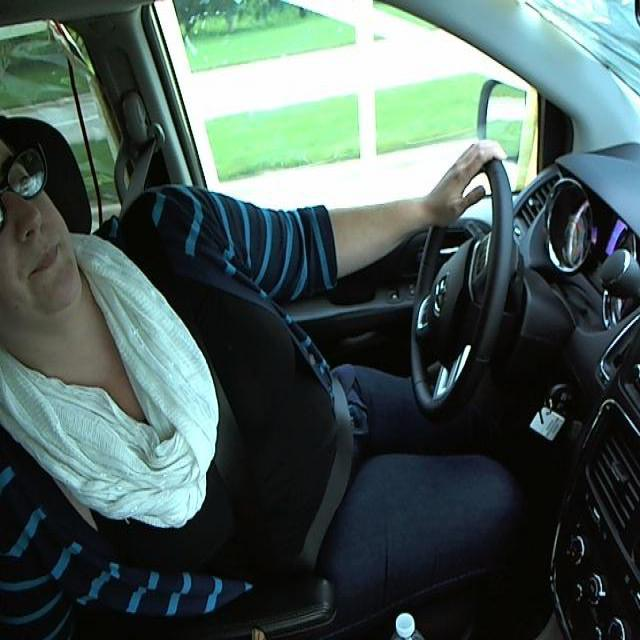seatbelt: (162, 309, 361, 536)
